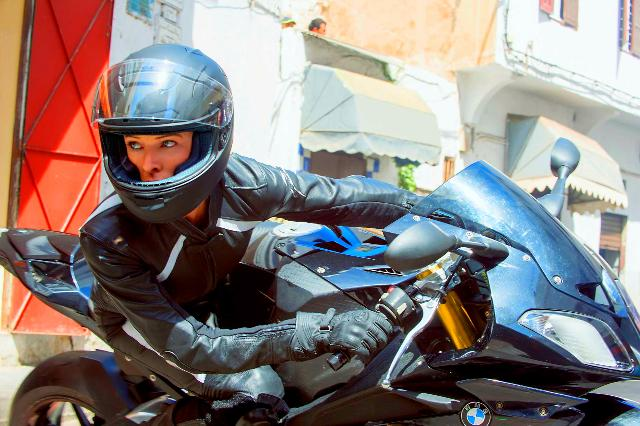helm: (93, 44, 240, 225)
motor: (1, 134, 640, 426)
